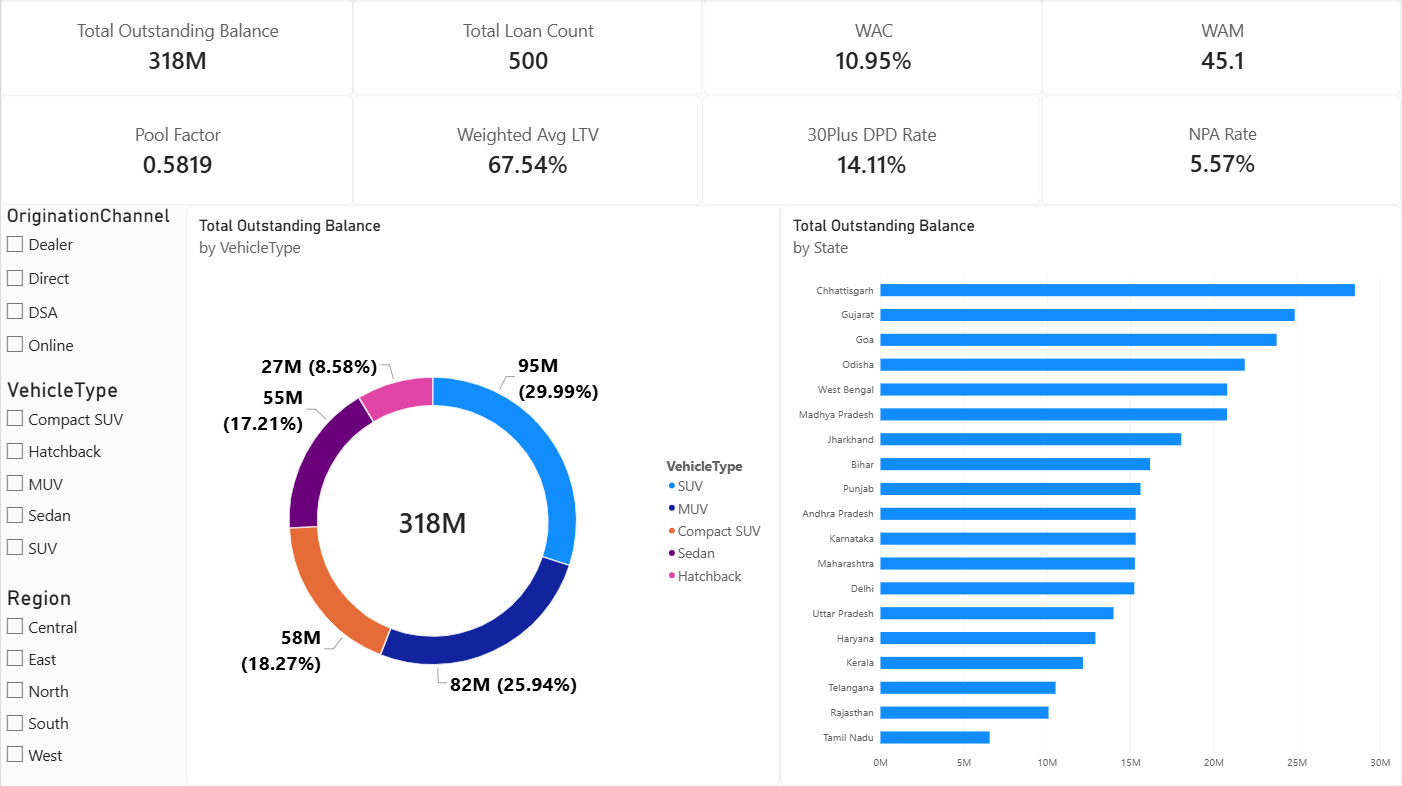

What the dashboard file says about the page in this screenshot:
{"tool":"powerbi","page":{"name":"Portfolio Overview","canvas":[1920,1080],"ordinal":0},"visuals":[{"type":"cardVisual","fields":{"Data":["_AllMeasures.Total Outstanding Balance"]},"box":[0,0,482,134],"z":0},{"type":"cardVisual","fields":{"Data":["_AllMeasures.Total Loan Count"]},"box":[482.7,0,479,133.7],"z":1000},{"type":"cardVisual","fields":{"Data":["_AllMeasures.WAC"]},"box":[961.7,0,464.1,133.7],"z":2000},{"type":"cardVisual","fields":{"Data":["_AllMeasures.WAM"]},"box":[1425.9,0,493.9,133.7],"z":3000},{"type":"cardVisual","fields":{"Data":["_AllMeasures.Pool Factor"]},"box":[0,133.3,482.5,150],"z":4000},{"type":"cardVisual","fields":{"Data":["_AllMeasures.Weighted Avg LTV"]},"box":[482.5,133.8,477.5,150],"z":5000},{"type":"cardVisual","fields":{"Data":["_AllMeasures.30Plus DPD Rate"]},"box":[961.2,133.8,463.8,150],"z":6000},{"type":"cardVisual","fields":{"Data":["_AllMeasures.NPA Rate"]},"box":[1426.2,133.8,493.8,150],"z":7000},{"type":"donutChart","fields":{"Category":["Dim_Vehicle.VehicleType"],"Y":["_AllMeasures.Total Outstanding Balance"]},"box":[255,285,812.5,795],"z":8000},{"type":"clusteredBarChart","fields":{"Category":["Dim_Borrower.State"],"Y":["_AllMeasures.Total Outstanding Balance"]},"box":[1067.5,285,852.5,795],"z":9000},{"type":"slicer","fields":{"Values":["Dim_Borrower.Region"]},"box":[0,805,255,275],"z":10000},{"type":"slicer","fields":{"Values":["Dim_Vehicle.VehicleType"]},"box":[0,520,255,260],"z":11000},{"type":"slicer","fields":{"Values":["Fact_Auto_Loans.OriginationChannel"]},"box":[0,282.5,255,237.5],"z":12000}]}

Visuals, with their boxes in screenshot pixels (x1, y1, x2, y2), scaled from the page's 1920x1080 canvas onto the 1402x786 screenshot:
cardVisual - _AllMeasures.Total Outstanding Balance: {"x1": 0, "y1": 0, "x2": 352, "y2": 98}
cardVisual - _AllMeasures.Total Loan Count: {"x1": 352, "y1": 0, "x2": 702, "y2": 97}
cardVisual - _AllMeasures.WAC: {"x1": 702, "y1": 0, "x2": 1041, "y2": 97}
cardVisual - _AllMeasures.WAM: {"x1": 1041, "y1": 0, "x2": 1401, "y2": 97}
cardVisual - _AllMeasures.Pool Factor: {"x1": 0, "y1": 97, "x2": 352, "y2": 206}
cardVisual - _AllMeasures.Weighted Avg LTV: {"x1": 352, "y1": 97, "x2": 701, "y2": 207}
cardVisual - _AllMeasures.30Plus DPD Rate: {"x1": 702, "y1": 97, "x2": 1041, "y2": 207}
cardVisual - _AllMeasures.NPA Rate: {"x1": 1041, "y1": 97, "x2": 1401, "y2": 207}
donutChart - Dim_Vehicle.VehicleType x _AllMeasures.Total Outstanding Balance: {"x1": 186, "y1": 207, "x2": 779, "y2": 785}
clusteredBarChart - Dim_Borrower.State x _AllMeasures.Total Outstanding Balance: {"x1": 779, "y1": 207, "x2": 1401, "y2": 785}
slicer - Dim_Borrower.Region: {"x1": 0, "y1": 586, "x2": 186, "y2": 785}
slicer - Dim_Vehicle.VehicleType: {"x1": 0, "y1": 378, "x2": 186, "y2": 568}
slicer - Fact_Auto_Loans.OriginationChannel: {"x1": 0, "y1": 206, "x2": 186, "y2": 378}
